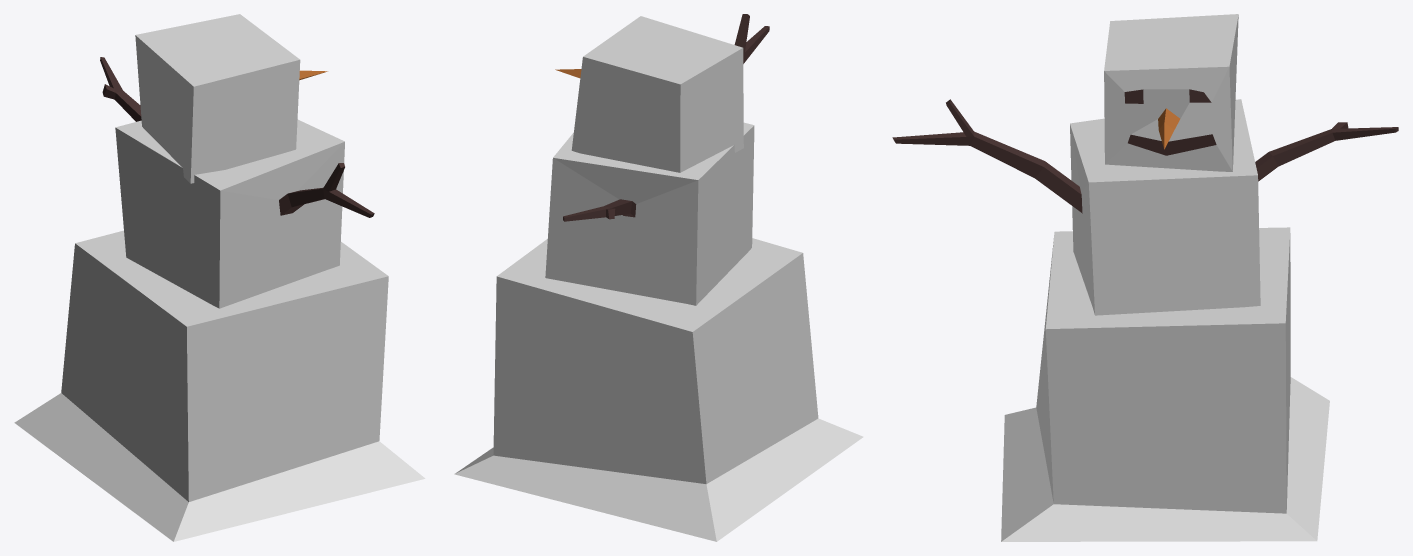
Rendered from winter_snowman.fbx.
3 views of the same model, side by side, from view 1: azimuth 30°, elevation 25°; view 2: azimuth 150°, elevation 25°; view 3: azimuth 270°, elevation 25° (orthographic). The views are drawn at different scales.
Visible parts, largest first — view 1: winter_snowman_LOD0; view 2: winter_snowman_LOD0; view 3: winter_snowman_LOD0.
Boxes of the visible parts, left/top/right/bottom form: winter_snowman_LOD0: left=14, top=14, right=425, bottom=541; winter_snowman_LOD0: left=454, top=14, right=863, bottom=541; winter_snowman_LOD0: left=892, top=14, right=1398, bottom=541.
Size of what is drawn, in the model's own units: 287 by 424 by 445.
